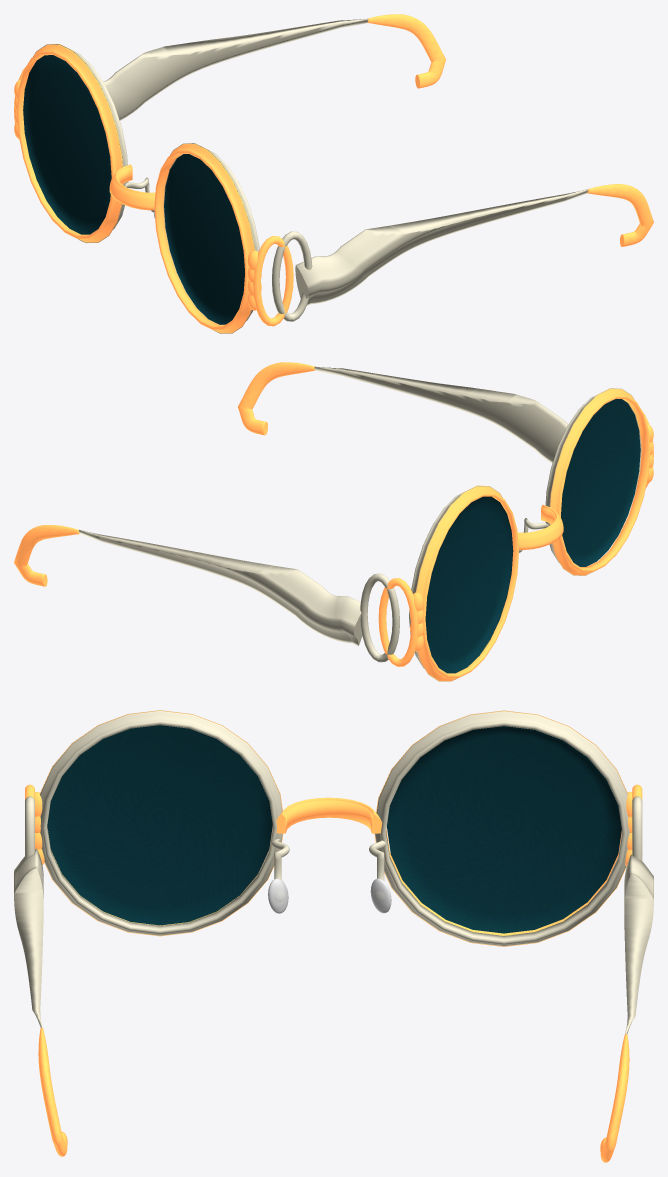
The model's file is SolBrille1.glb.
3 views of the same model, one above another, from view 1: azimuth 30°, elevation 25°; view 2: azimuth 150°, elevation 25°; view 3: azimuth 270°, elevation 25° (orthographic). The views are drawn at different scales.
Visible parts, largest first — view 1: Glas, Arme, Front, Aremender, Back, SideCirkler; view 2: Glas, Arme, Front, Aremender, Back, SideCirkler; view 3: Glas, Back, Arme, Front, Aremender, SideCirkler, BroPlast, Vro.
Part boxes in pixels (x1,y1,x2,y2): Glas: [23, 55, 244, 324]; Arme: [103, 18, 587, 305]; Front: [14, 44, 293, 333]; Aremender: [367, 14, 653, 246]; Back: [33, 44, 259, 333]; SideCirkler: [272, 231, 312, 321]; Glas: [425, 399, 640, 673]; Arme: [79, 366, 568, 645]; Front: [378, 388, 653, 681]; Aremender: [14, 362, 314, 586]; Back: [409, 388, 641, 681]; SideCirkler: [360, 573, 399, 662]; Glas: [47, 725, 621, 933]; Back: [40, 710, 629, 946]; Arme: [14, 848, 653, 1034]; Front: [25, 710, 642, 946]; Aremender: [38, 1027, 629, 1162]; SideCirkler: [25, 796, 642, 860]; BroPlast: [268, 878, 391, 913]; Vro: [272, 839, 385, 880].
Bounding box in the file's own units: 18.52 × 7.47 × 18.34.
4 materials, 2 textured.
